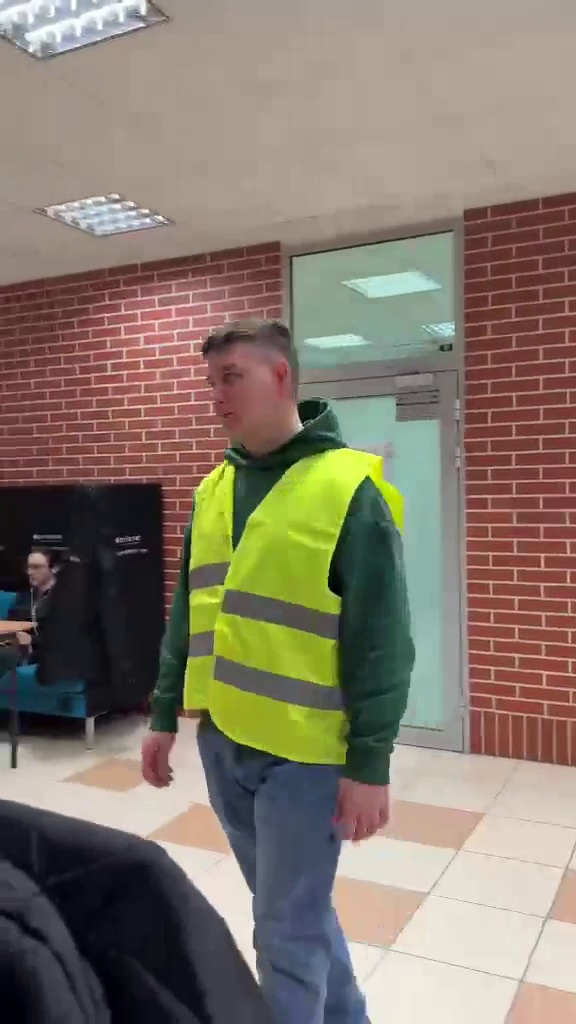vest: (148, 319, 421, 1024)
